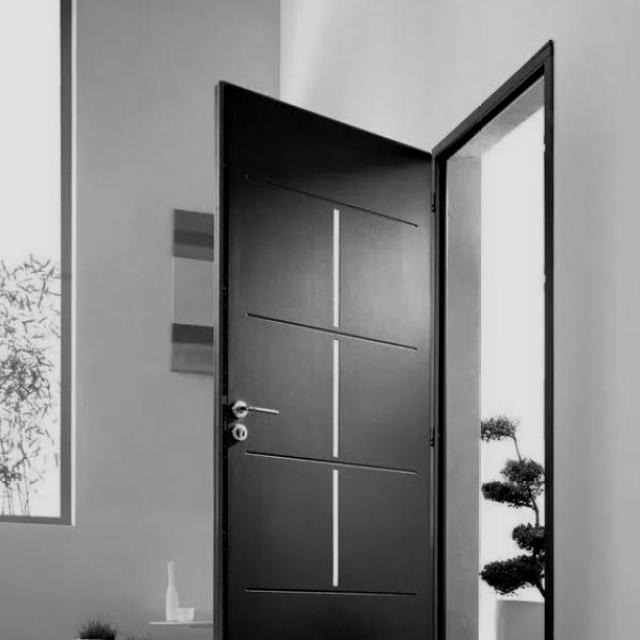door: (215, 80, 439, 638)
